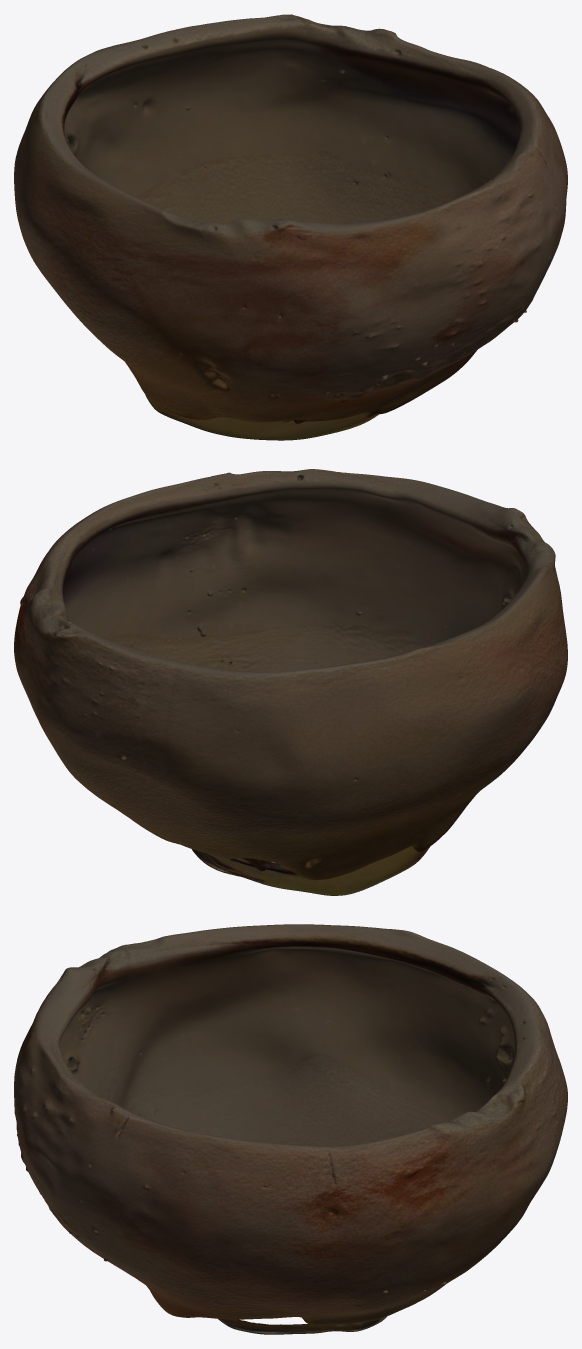
The model's file is cuenco-1.glb.
3 views of the same model, one above another, from view 1: azimuth 30°, elevation 25°; view 2: azimuth 150°, elevation 25°; view 3: azimuth 270°, elevation 25° (orthographic).
Parts seen in each view (by area): view 1: tripo_node_4ab6450a-0c0e-494f-9ad0-846954edf7ea; view 2: tripo_node_4ab6450a-0c0e-494f-9ad0-846954edf7ea; view 3: tripo_node_4ab6450a-0c0e-494f-9ad0-846954edf7ea.
Part boxes in pixels (bbox=[...]): tripo_node_4ab6450a-0c0e-494f-9ad0-846954edf7ea: bbox=[14, 14, 567, 440]; tripo_node_4ab6450a-0c0e-494f-9ad0-846954edf7ea: bbox=[14, 469, 567, 895]; tripo_node_4ab6450a-0c0e-494f-9ad0-846954edf7ea: bbox=[14, 924, 567, 1334].
Size of the model in its own units: 0.9797 by 0.5433 by 0.9747.
1 material, 1 textured.
